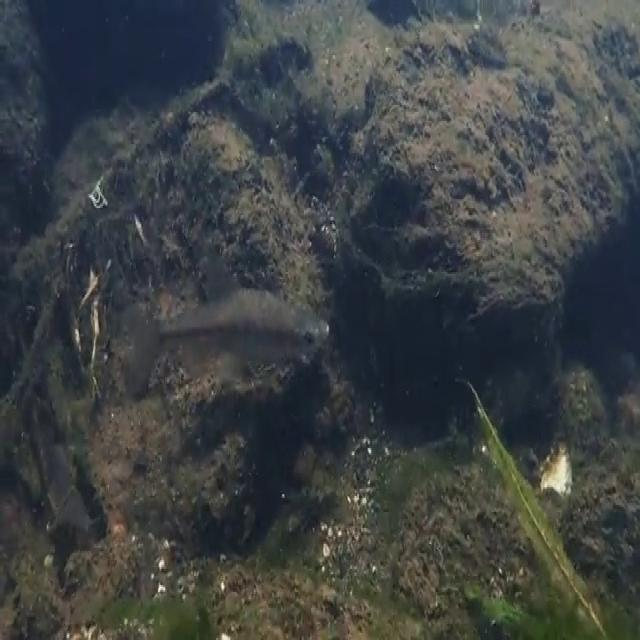Cakil Baligi: (122, 254, 329, 392)
